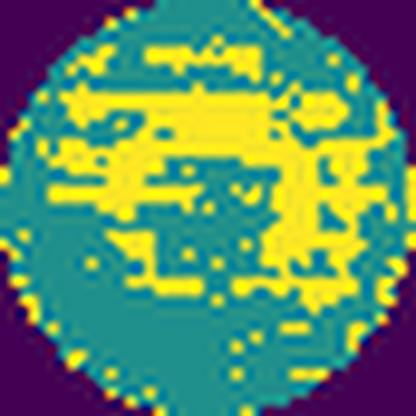Donut: (36, 74, 402, 319)
